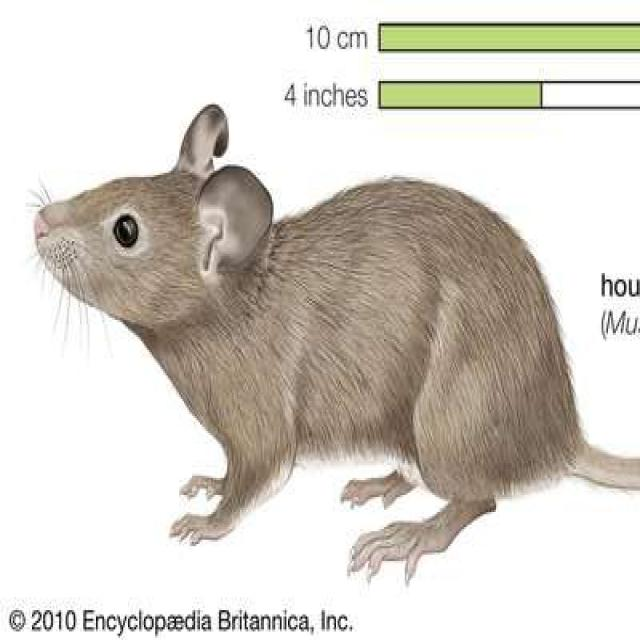Mouse: (31, 115, 588, 571)
